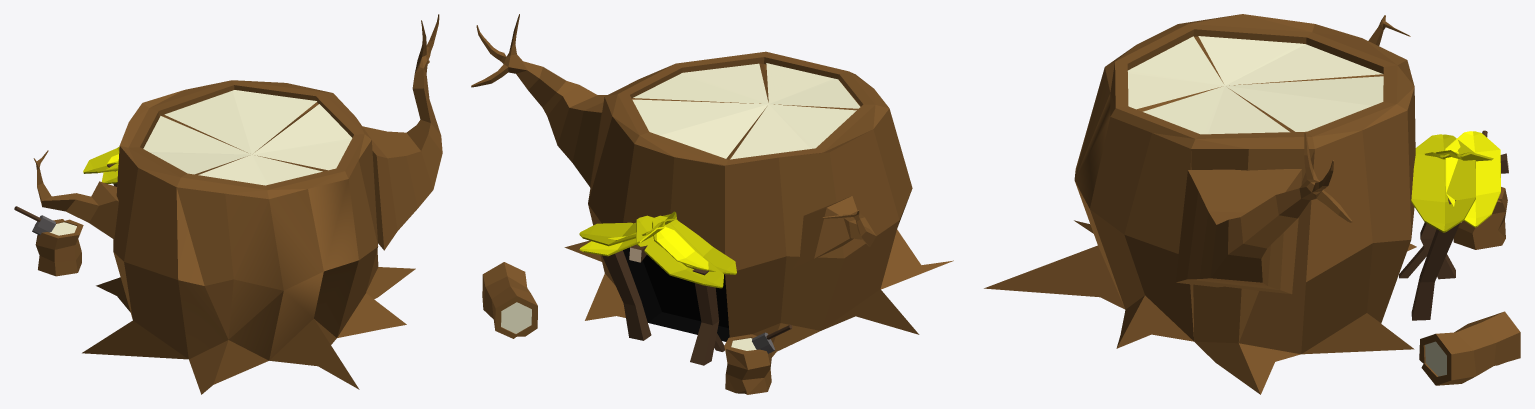
Rendered from MAISON BUCHERON.fbx.
The picture shows the model from 3 angles, left to right: view 1: azimuth 30°, elevation 25°; view 2: azimuth 150°, elevation 25°; view 3: azimuth 270°, elevation 25°; orthographic projection. The views are drawn at different scales.
Visible parts, largest first — view 1: Cube.014; view 2: Cube.014; view 3: Cube.014.
Boxes of the visible parts, bbox=[...] form: Cube.014: bbox=[14, 14, 442, 394]; Cube.014: bbox=[471, 14, 953, 394]; Cube.014: bbox=[984, 14, 1520, 394].
Bounding box in the file's own units: 700 × 400 × 694.
